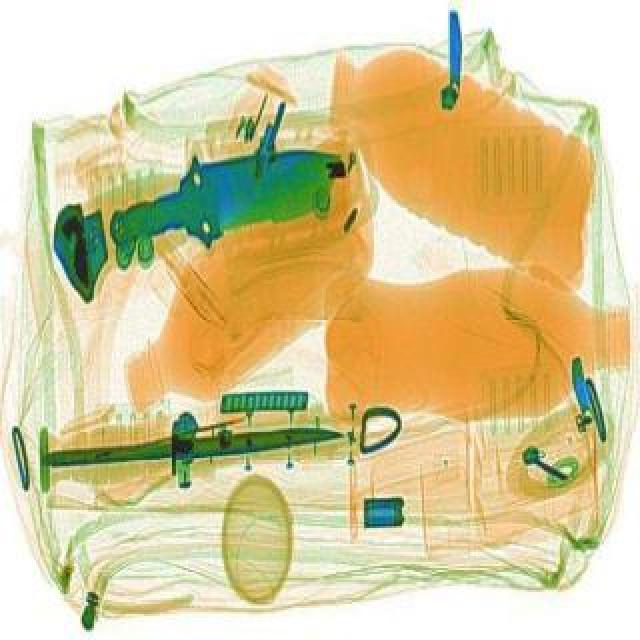knife: (94, 120, 358, 264), (44, 392, 348, 494)
